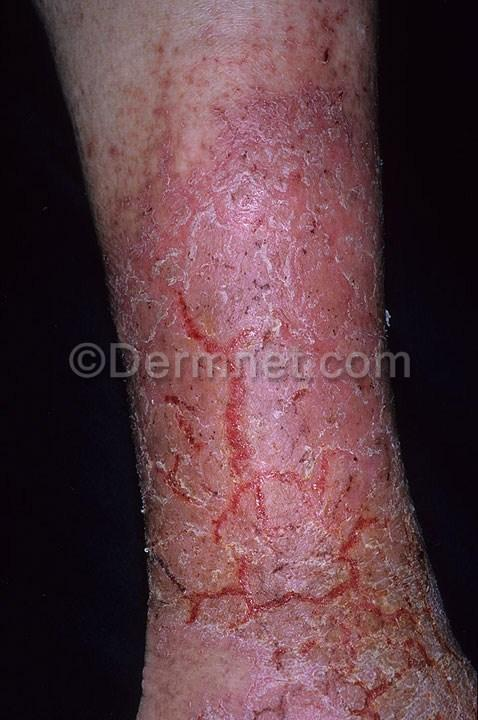Eczema: (287, 503, 375, 626), (316, 371, 392, 481), (360, 489, 428, 611), (252, 369, 314, 500), (147, 505, 219, 615), (241, 183, 333, 264), (246, 271, 325, 361), (222, 503, 284, 614), (238, 618, 314, 708), (173, 201, 260, 273), (222, 86, 284, 181), (98, 261, 187, 325), (149, 623, 241, 684), (330, 174, 385, 270), (323, 269, 379, 363), (286, 88, 344, 176), (123, 403, 186, 484), (177, 279, 240, 359), (175, 366, 239, 444), (145, 684, 273, 720), (308, 620, 362, 704), (150, 141, 219, 204), (373, 613, 415, 709), (420, 606, 470, 685), (197, 34, 257, 99), (269, 464, 351, 511), (150, 85, 211, 148), (112, 333, 178, 391), (193, 439, 252, 500), (280, 691, 404, 720), (79, 129, 143, 183), (298, 4, 362, 54), (95, 190, 158, 240), (245, 14, 298, 70), (341, 69, 372, 163), (100, 76, 153, 128), (420, 676, 460, 720), (145, 36, 180, 84), (83, 6, 127, 43), (144, 5, 195, 35)
